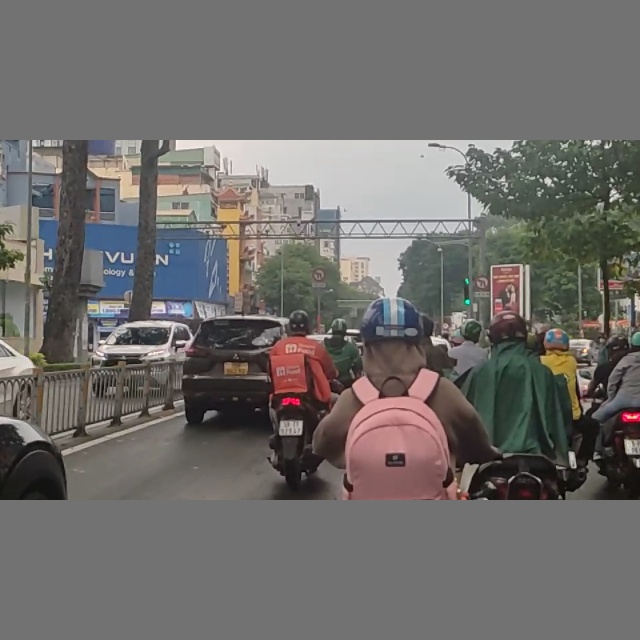P.124c: (475, 275, 490, 290), (312, 269, 325, 281)
